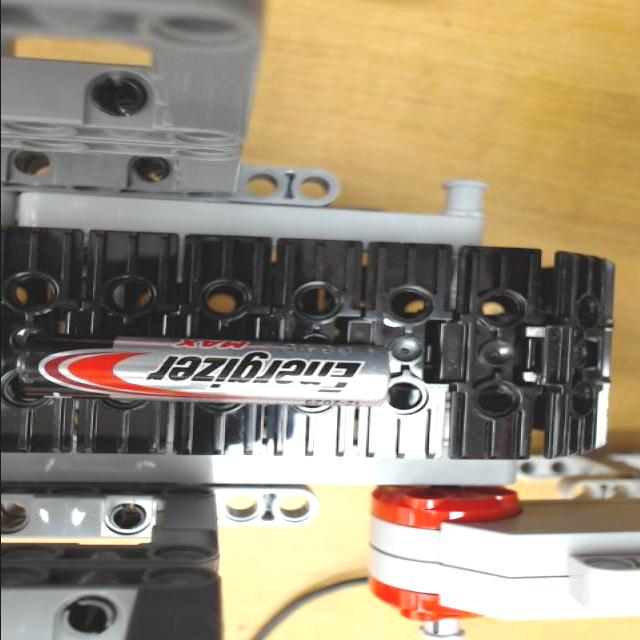AAA: (34, 340, 390, 404)
